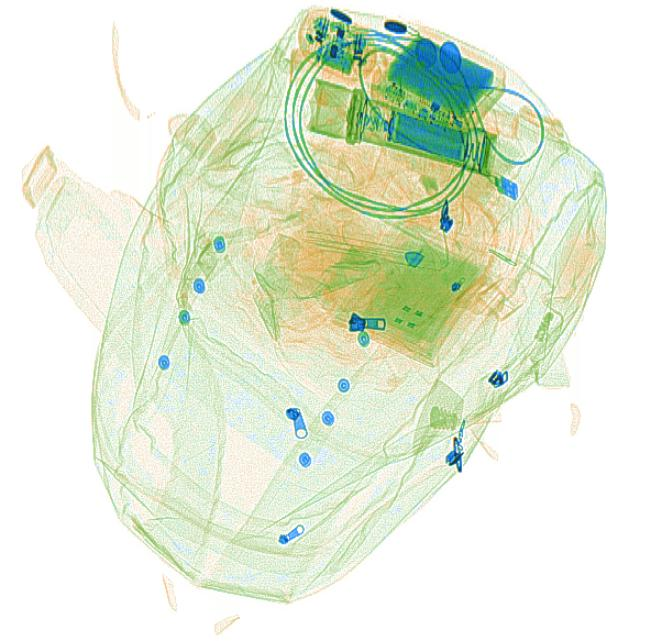battery: (383, 109, 472, 161)
